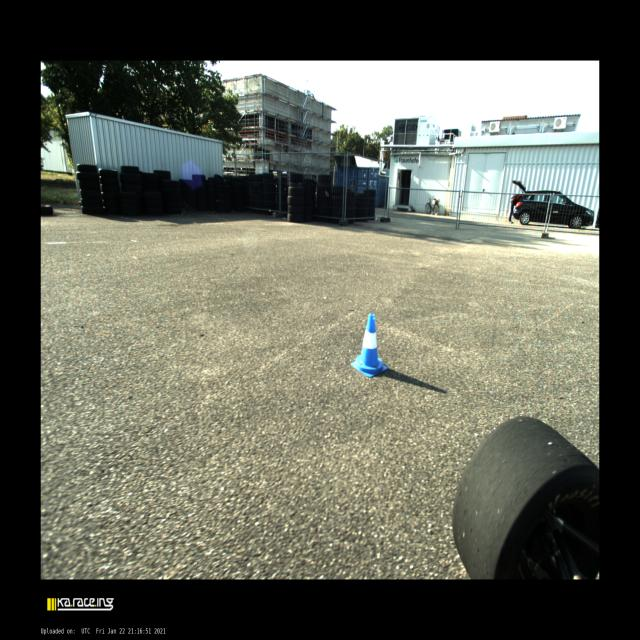blue_cone: (351, 314, 387, 377)
